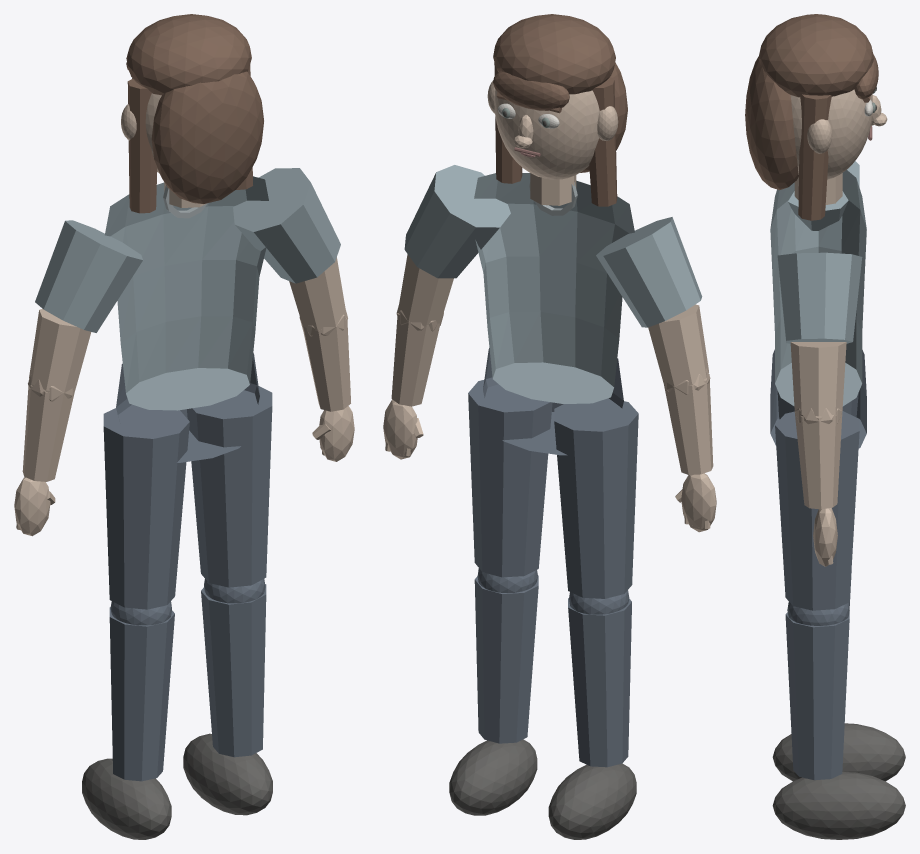
Rendered from default_woman_lowpoly.glb.
The picture shows the model from 3 angles, left to right: view 1: azimuth 30°, elevation 25°; view 2: azimuth 150°, elevation 25°; view 3: azimuth 270°, elevation 25°; orthographic projection. The views are drawn at different scales.
Parts seen in each view (by area): view 1: woman_shirt_torso, woman_upper_leg_-1, woman_upper_leg_1, woman_hair_back, woman_lower_leg_-1, woman_lower_leg_1, woman_sleeve_1, woman_hair_cap, woman_sleeve_-1, woman_shoe_-1, woman_shoe_1, woman_upper_arm_-1 (+9 smaller); view 2: woman_shirt_torso, woman_upper_leg_-1, woman_upper_leg_1, woman_lower_leg_-1, woman_lower_leg_1, woman_sleeve_1, woman_hair_cap, woman_sleeve_-1, woman_head, woman_shoe_-1, woman_shoe_1, woman_upper_arm_-1 (+13 smaller); view 3: woman_upper_leg_1, woman_lower_leg_1, woman_shirt_torso, woman_hair_cap, woman_shoe_1, woman_sleeve_1, woman_hair_back, woman_upper_arm_1, woman_forearm_1, woman_shoe_-1, woman_head, woman_side_lock_1 (+9 smaller).
Boxes of the visible parts, <box> form: woman_shirt_torso: <box>105,176,268,410</box>; woman_upper_leg_-1: <box>103,404,189,609</box>; woman_upper_leg_1: <box>187,386,272,587</box>; woman_hair_back: <box>151,71,263,203</box>; woman_lower_leg_-1: <box>109,607,174,781</box>; woman_lower_leg_1: <box>201,584,266,757</box>; woman_sleeve_1: <box>233,168,340,283</box>; woman_hair_cap: <box>126,14,251,95</box>; woman_sleeve_-1: <box>35,220,142,332</box>; woman_shoe_-1: <box>82,758,171,839</box>; woman_shoe_1: <box>183,733,272,815</box>; woman_upper_arm_-1: <box>29,309,91,392</box>; woman_shirt_torso: <box>474,173,634,403</box>; woman_upper_leg_-1: <box>554,398,638,598</box>; woman_upper_leg_1: <box>468,380,552,577</box>; woman_lower_leg_-1: <box>568,598,631,767</box>; woman_lower_leg_1: <box>474,575,538,743</box>; woman_sleeve_1: <box>404,165,510,278</box>; woman_hair_cap: <box>493,14,615,94</box>; woman_sleeve_-1: <box>596,217,702,327</box>; woman_head: <box>494,89,599,179</box>; woman_shoe_-1: <box>548,763,636,839</box>; woman_shoe_1: <box>449,739,537,815</box>; woman_upper_arm_-1: <box>648,304,708,386</box>; woman_upper_leg_1: <box>775,411,859,610</box>; woman_lower_leg_1: <box>785,612,849,780</box>; woman_shirt_torso: <box>770,170,866,406</box>; woman_hair_cap: <box>758,14,873,97</box>; woman_shoe_1: <box>772,771,905,839</box>; woman_sleeve_1: <box>777,252,862,343</box>; woman_hair_back: <box>745,56,798,190</box>; woman_upper_arm_1: <box>790,342,846,416</box>; woman_forearm_1: <box>794,412,842,509</box>; woman_shoe_-1: <box>772,723,905,781</box>; woman_head: <box>790,89,872,179</box>; woman_side_lock_1: <box>798,94,831,220</box>.
Bounding box in the file's own units: 0.8026 × 1.82 × 0.336.
